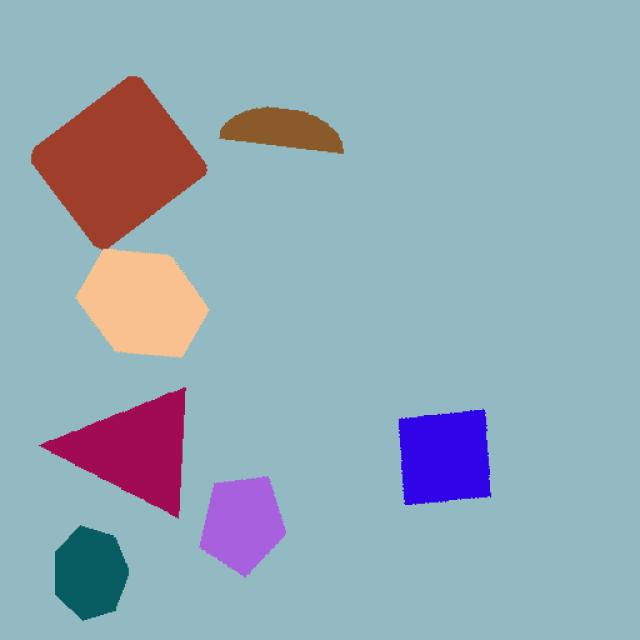Heptagon: (41, 505, 154, 640)
Hexagon: (26, 232, 221, 389)
Pentagon: (198, 466, 302, 594)
Semicircle: (208, 96, 358, 166)
Triangle: (40, 372, 202, 534)
square: (25, 72, 222, 247), (384, 398, 506, 520)
